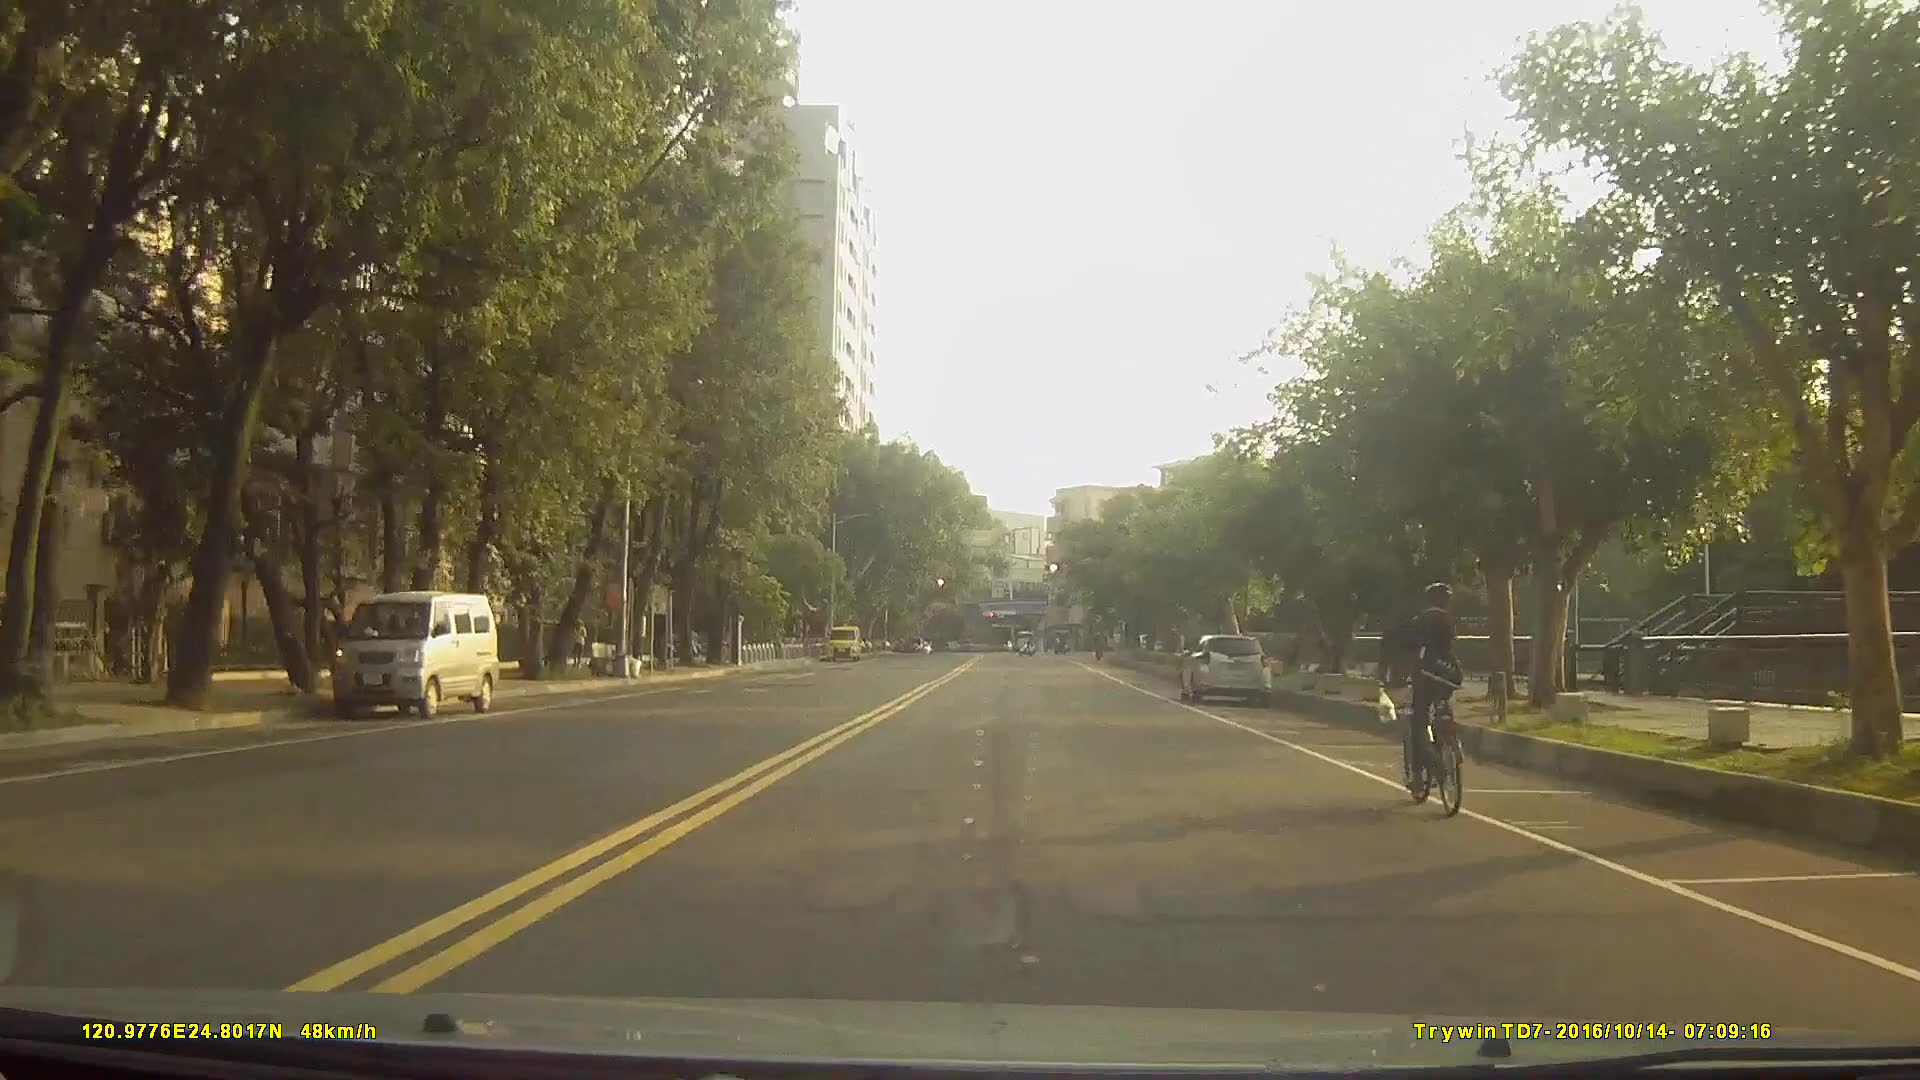rider: (1393, 581, 1471, 815)
vehicle: (331, 589, 501, 722), (1180, 631, 1273, 706), (1010, 627, 1036, 653)
